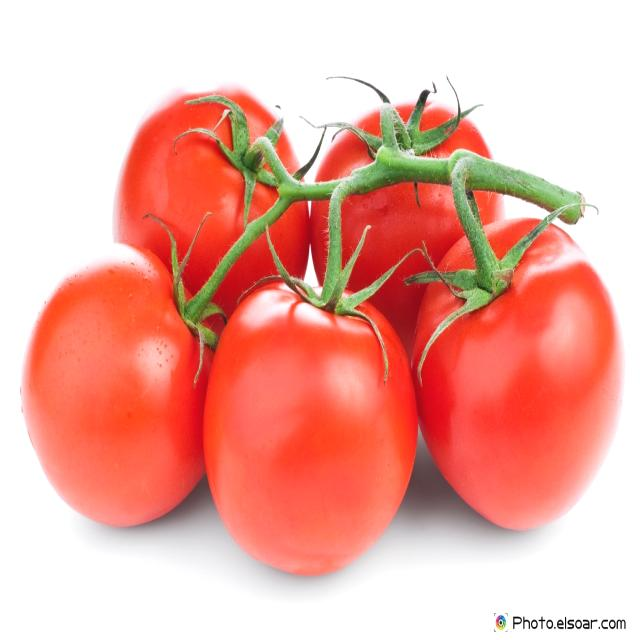tomato: (414, 207, 628, 544), (207, 254, 417, 582), (20, 247, 208, 530), (300, 82, 494, 328), (104, 83, 306, 317)
